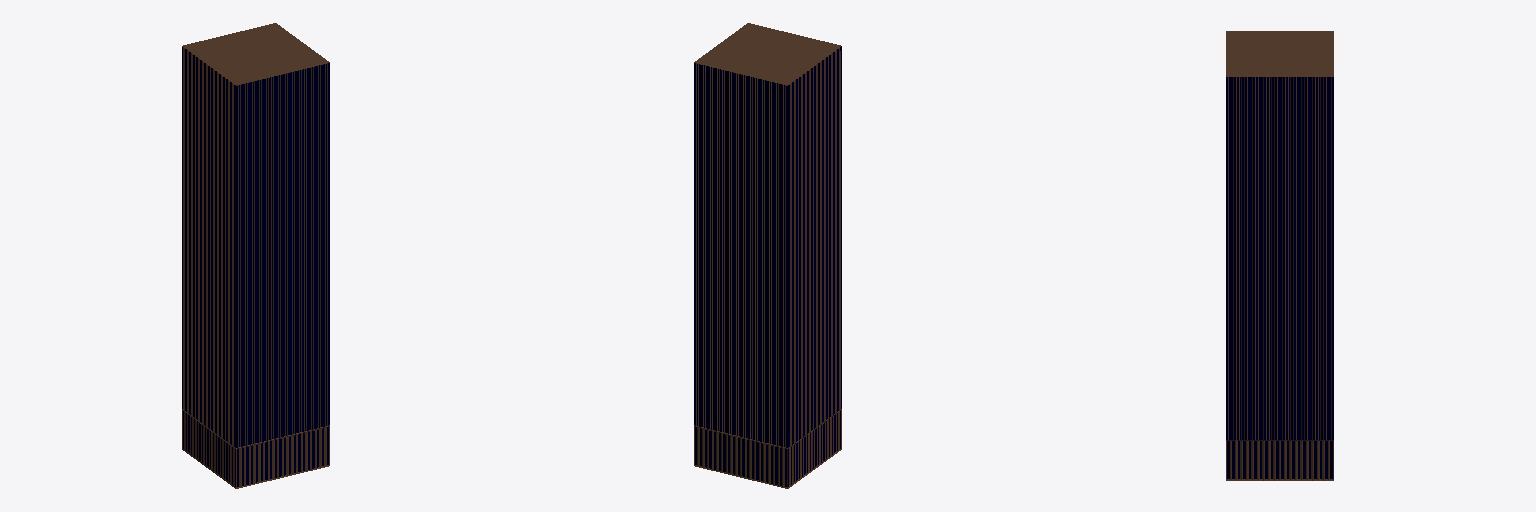
The picture shows the model from 3 angles: view 1: azimuth 30°, elevation 25°; view 2: azimuth 150°, elevation 25°; view 3: azimuth 270°, elevation 25°; orthographic projection.
Visible parts, largest first — view 1: Cube1; view 2: Cube1; view 3: Cube1.
Part boxes in pixels (x1,y1,x2,y2): Cube1: (182,23,329,488); Cube1: (694,23,841,488); Cube1: (1226,31,1333,480).
Bounding box in the file's own units: 2 × 8.17 × 2.
Materials: 1 (1 with a texture image).